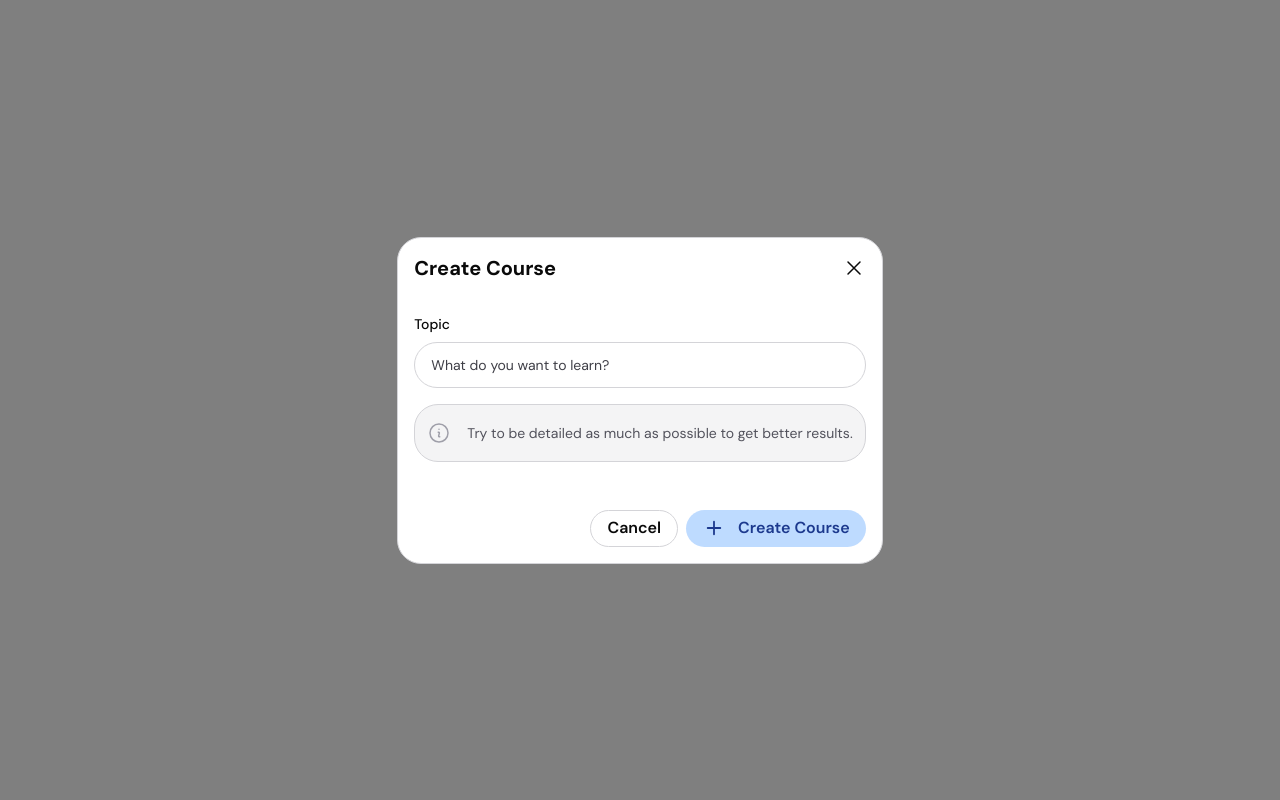
it: CreateCourseForm › shows loading and disables all buttons when submitting
Step 1. Type "test" into the field with placeholder "What do you want to learn?" → (640, 364), box 414,342 -> 866,388
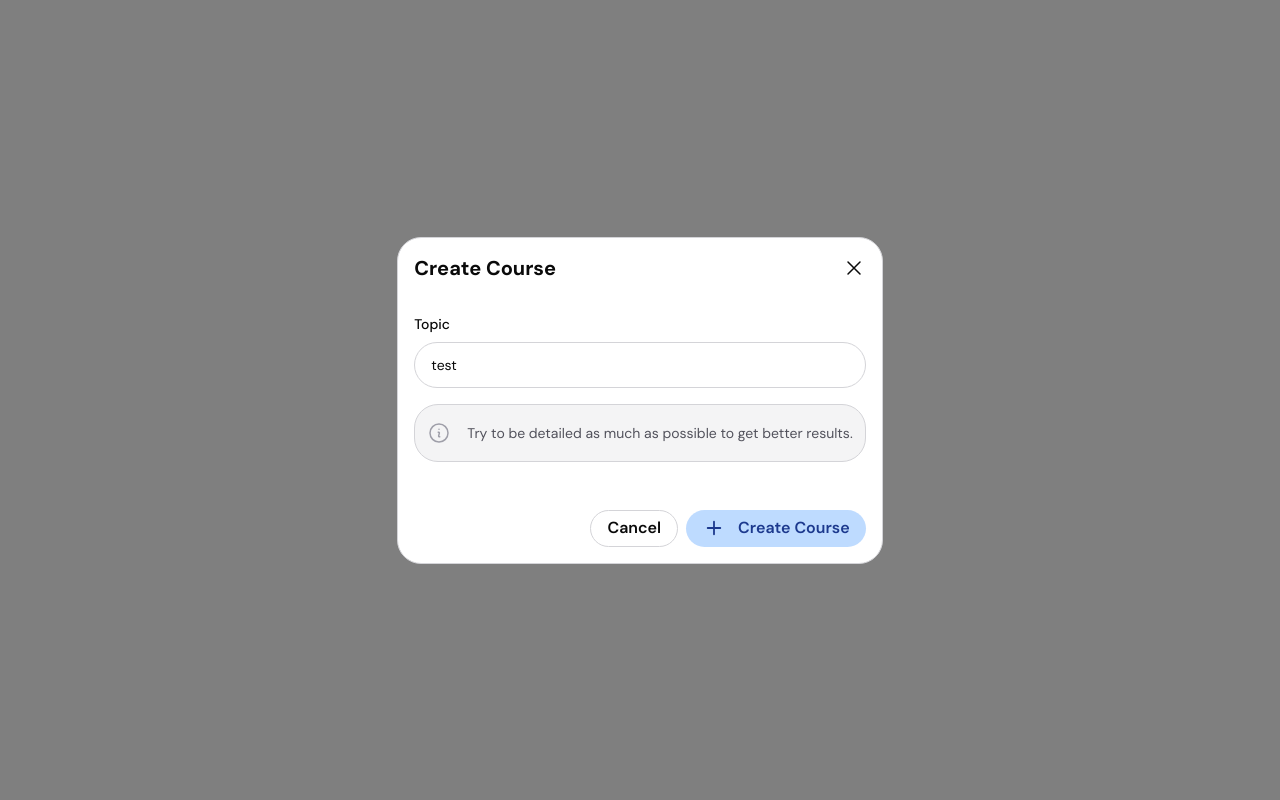
Step 2. Click the button "Create Course" → (776, 528), box 686,510 -> 866,546
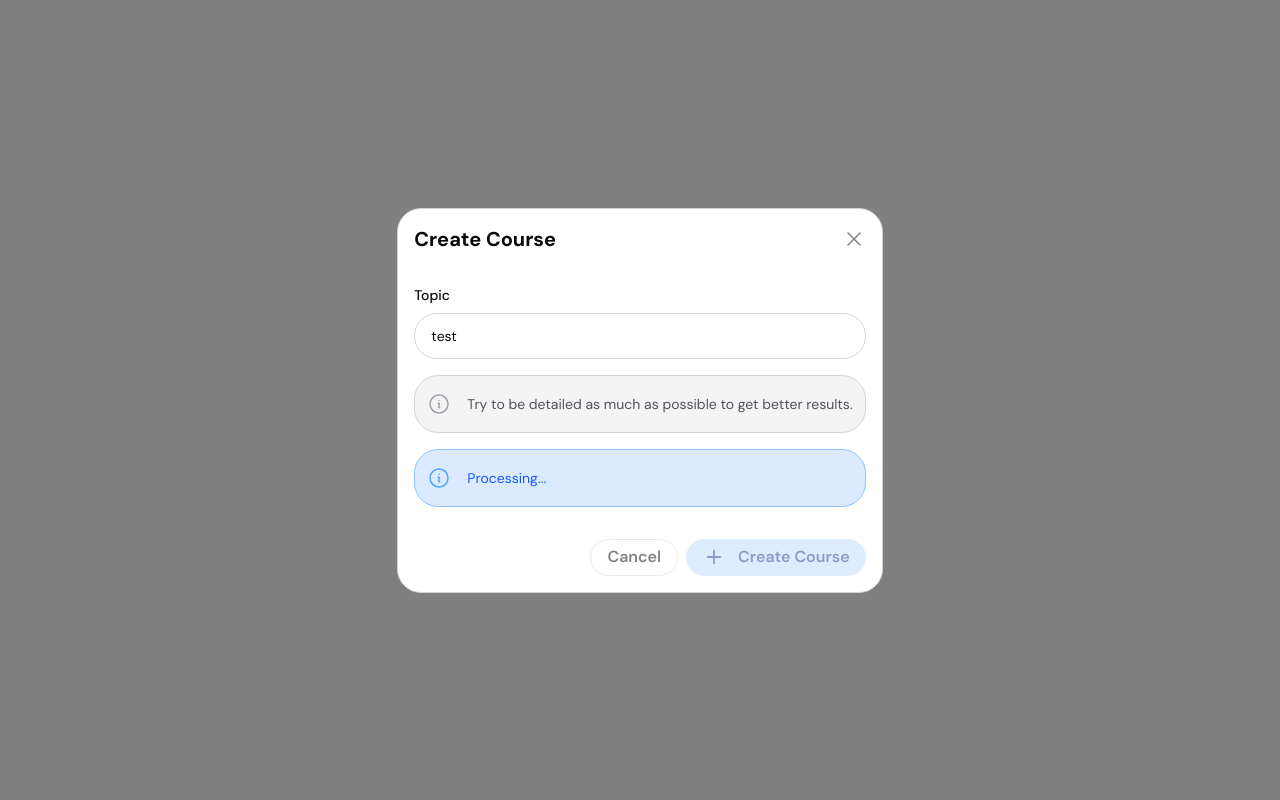
expect the text "Processing..." is shown: met, box 467,468 -> 546,488
expect the button "Cancel" is disabled: met, box 590,538 -> 678,576
expect the button with test id "x-button" is disabled: met, box 842,224 -> 866,252
